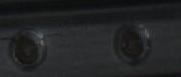joints: (5, 27, 47, 69), (110, 21, 151, 63)
